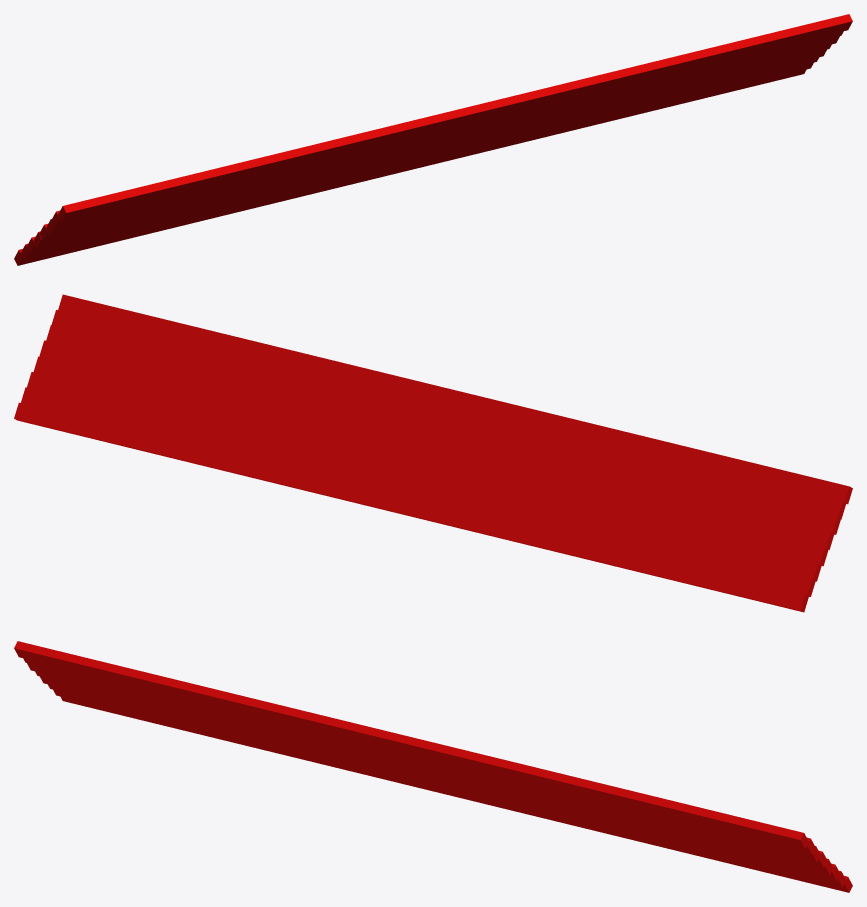
The model's file is Attic_WoodenFrame_03_LP.glb.
3 views of the same model, one above another, from view 1: azimuth 30°, elevation 25°; view 2: azimuth 150°, elevation 25°; view 3: azimuth 330°, elevation 25° (orthographic).
Visible parts, largest first — view 1: Attic_WoodenFrame_03_LP; view 2: Attic_WoodenFrame_03_LP; view 3: Attic_WoodenFrame_03_LP.
Part boxes in pixels (bbox=[...]): Attic_WoodenFrame_03_LP: bbox=[14, 14, 852, 265]; Attic_WoodenFrame_03_LP: bbox=[14, 294, 852, 612]; Attic_WoodenFrame_03_LP: bbox=[14, 641, 852, 892].
Size of the model in its own units: 11.16 by 1.26 by 1.29.
